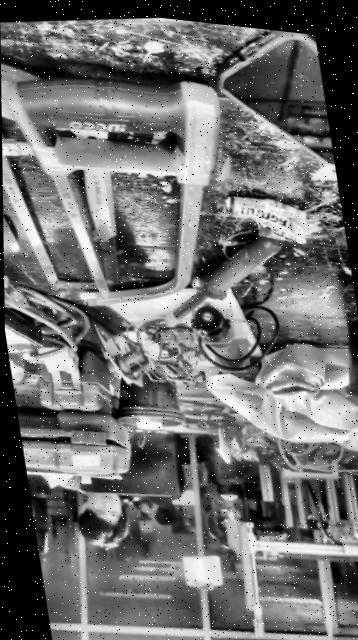pot: (332, 312, 358, 404)
